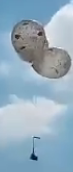Balloon: (12, 19, 45, 63), (33, 47, 70, 79)
